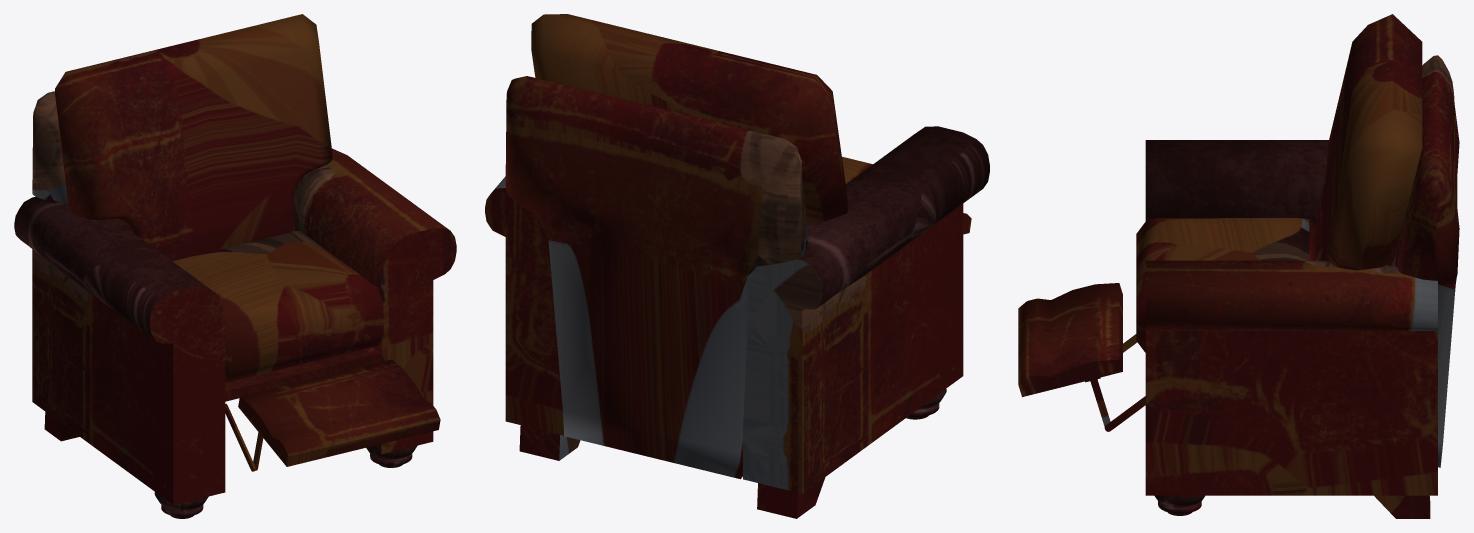
File: chair.obj
3 views of the same model, side by side, from view 1: azimuth 30°, elevation 25°; view 2: azimuth 150°, elevation 25°; view 3: azimuth 270°, elevation 25° (orthographic). The views are drawn at different scales.
Visible parts, largest first — view 1: defaultMaterial; view 2: defaultMaterial; view 3: defaultMaterial.
Part boxes in pixels (x1,y1,x2,y2): defaultMaterial: (14, 14, 456, 518); defaultMaterial: (485, 14, 989, 518); defaultMaterial: (1018, 14, 1459, 518).
Bounding box in the file's own units: 1.66 × 1.92 × 2.
